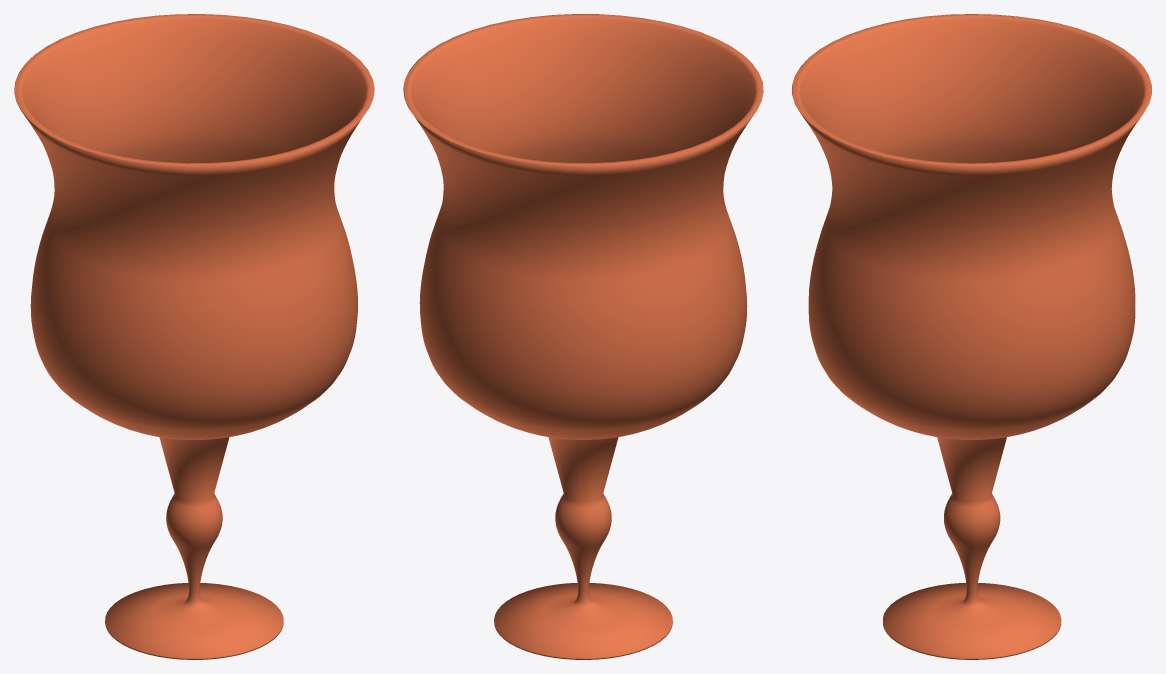
The model's file is DrinkGlass_7.fbx.
3 renders of one model, left to right at view 1: azimuth 30°, elevation 25°; view 2: azimuth 150°, elevation 25°; view 3: azimuth 270°, elevation 25°, orthographic.
Parts seen in each view (by area): view 1: DrinkGlass 7; view 2: DrinkGlass 7; view 3: DrinkGlass 7.
Part boxes in pixels (x1,y1,x2,y2): DrinkGlass 7: (14, 14, 374, 659); DrinkGlass 7: (403, 14, 763, 659); DrinkGlass 7: (792, 14, 1151, 659).
Bounding box in the file's own units: 0.0997 × 0.1626 × 0.0996.
